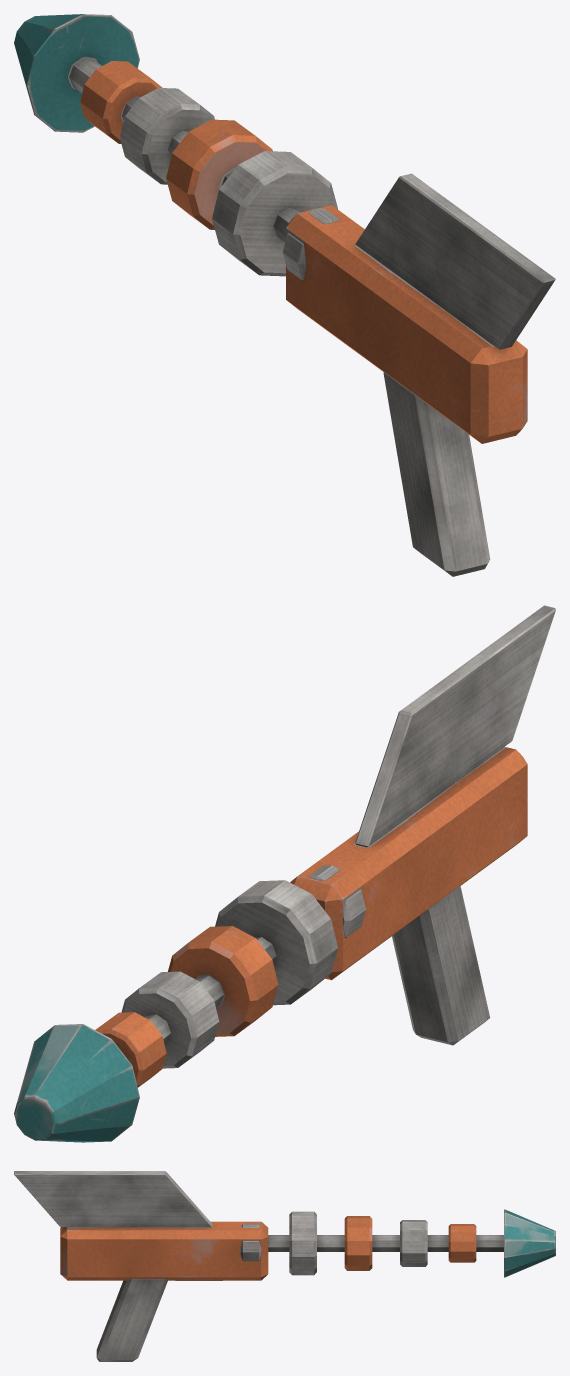
File: beamer.glb
The picture shows the model from 3 angles, top to bottom: view 1: azimuth 30°, elevation 25°; view 2: azimuth 150°, elevation 25°; view 3: azimuth 270°, elevation 25°; orthographic projection. The views are drawn at different scales.
Parts seen in each view (by area): view 1: beamer; view 2: beamer; view 3: beamer.
Boxes of the visible parts, <box> form: beamer: <box>14,14,555,576</box>; beamer: <box>14,605,555,1142</box>; beamer: <box>14,1171,555,1361</box>.
Bounding box in the file's own units: 0.0838 × 0.249 × 0.66.
Materials: 1 (1 with a texture image).
